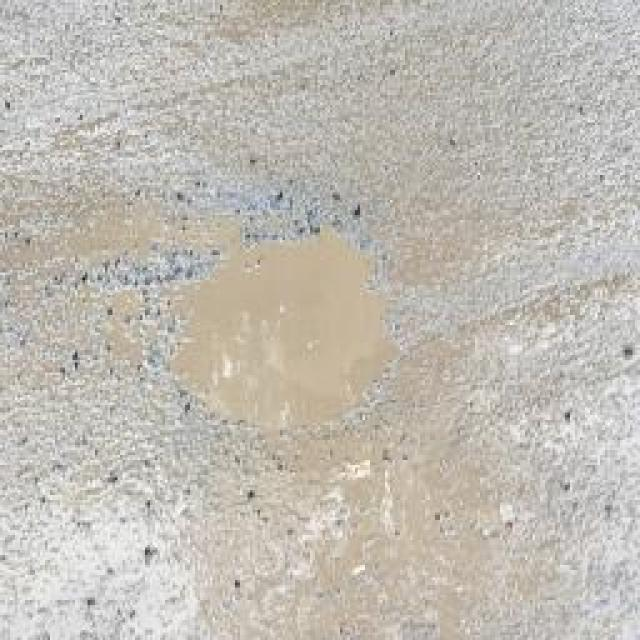waterlogging: (112, 201, 426, 451)
